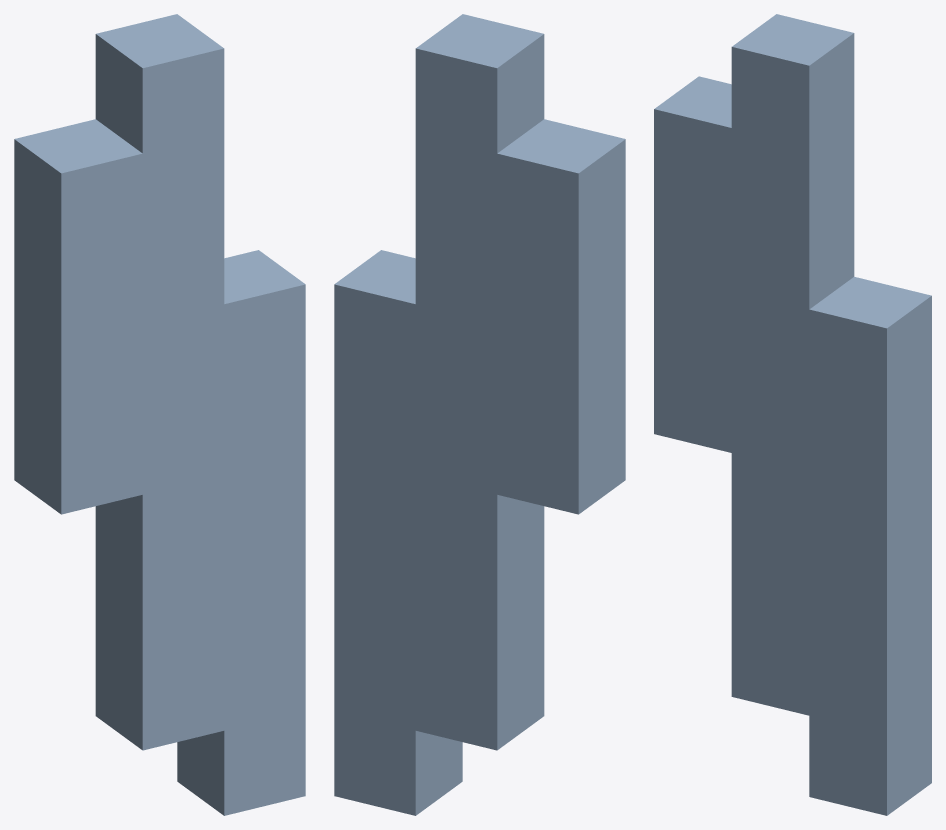
The model's file is Broken Scissors4.fbx.
3 views of the same model, side by side, from view 1: azimuth 30°, elevation 25°; view 2: azimuth 150°, elevation 25°; view 3: azimuth 330°, elevation 25° (orthographic). The views are drawn at different scales.
Visible parts, largest first — view 1: generated; view 2: generated; view 3: generated.
Boxes of the visible parts, bbox=[...] form: generated: bbox=[14, 14, 305, 815]; generated: bbox=[334, 14, 625, 815]; generated: bbox=[654, 14, 931, 815].
Bounding box in the file's own units: 30 × 90 × 10.
